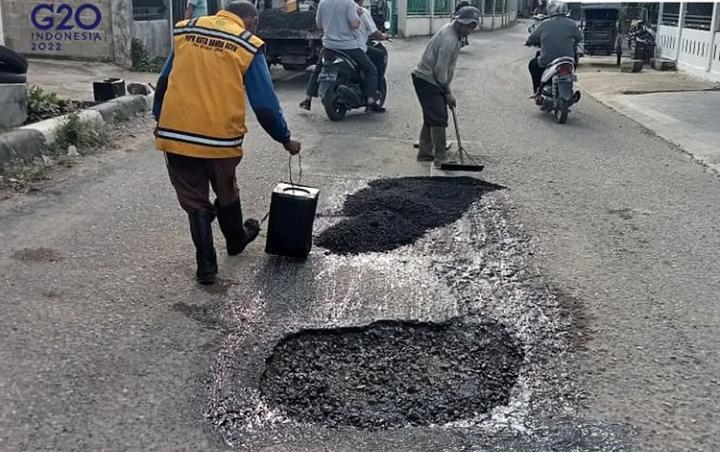Pothole: (156, 232, 635, 450), (5, 231, 77, 276)
